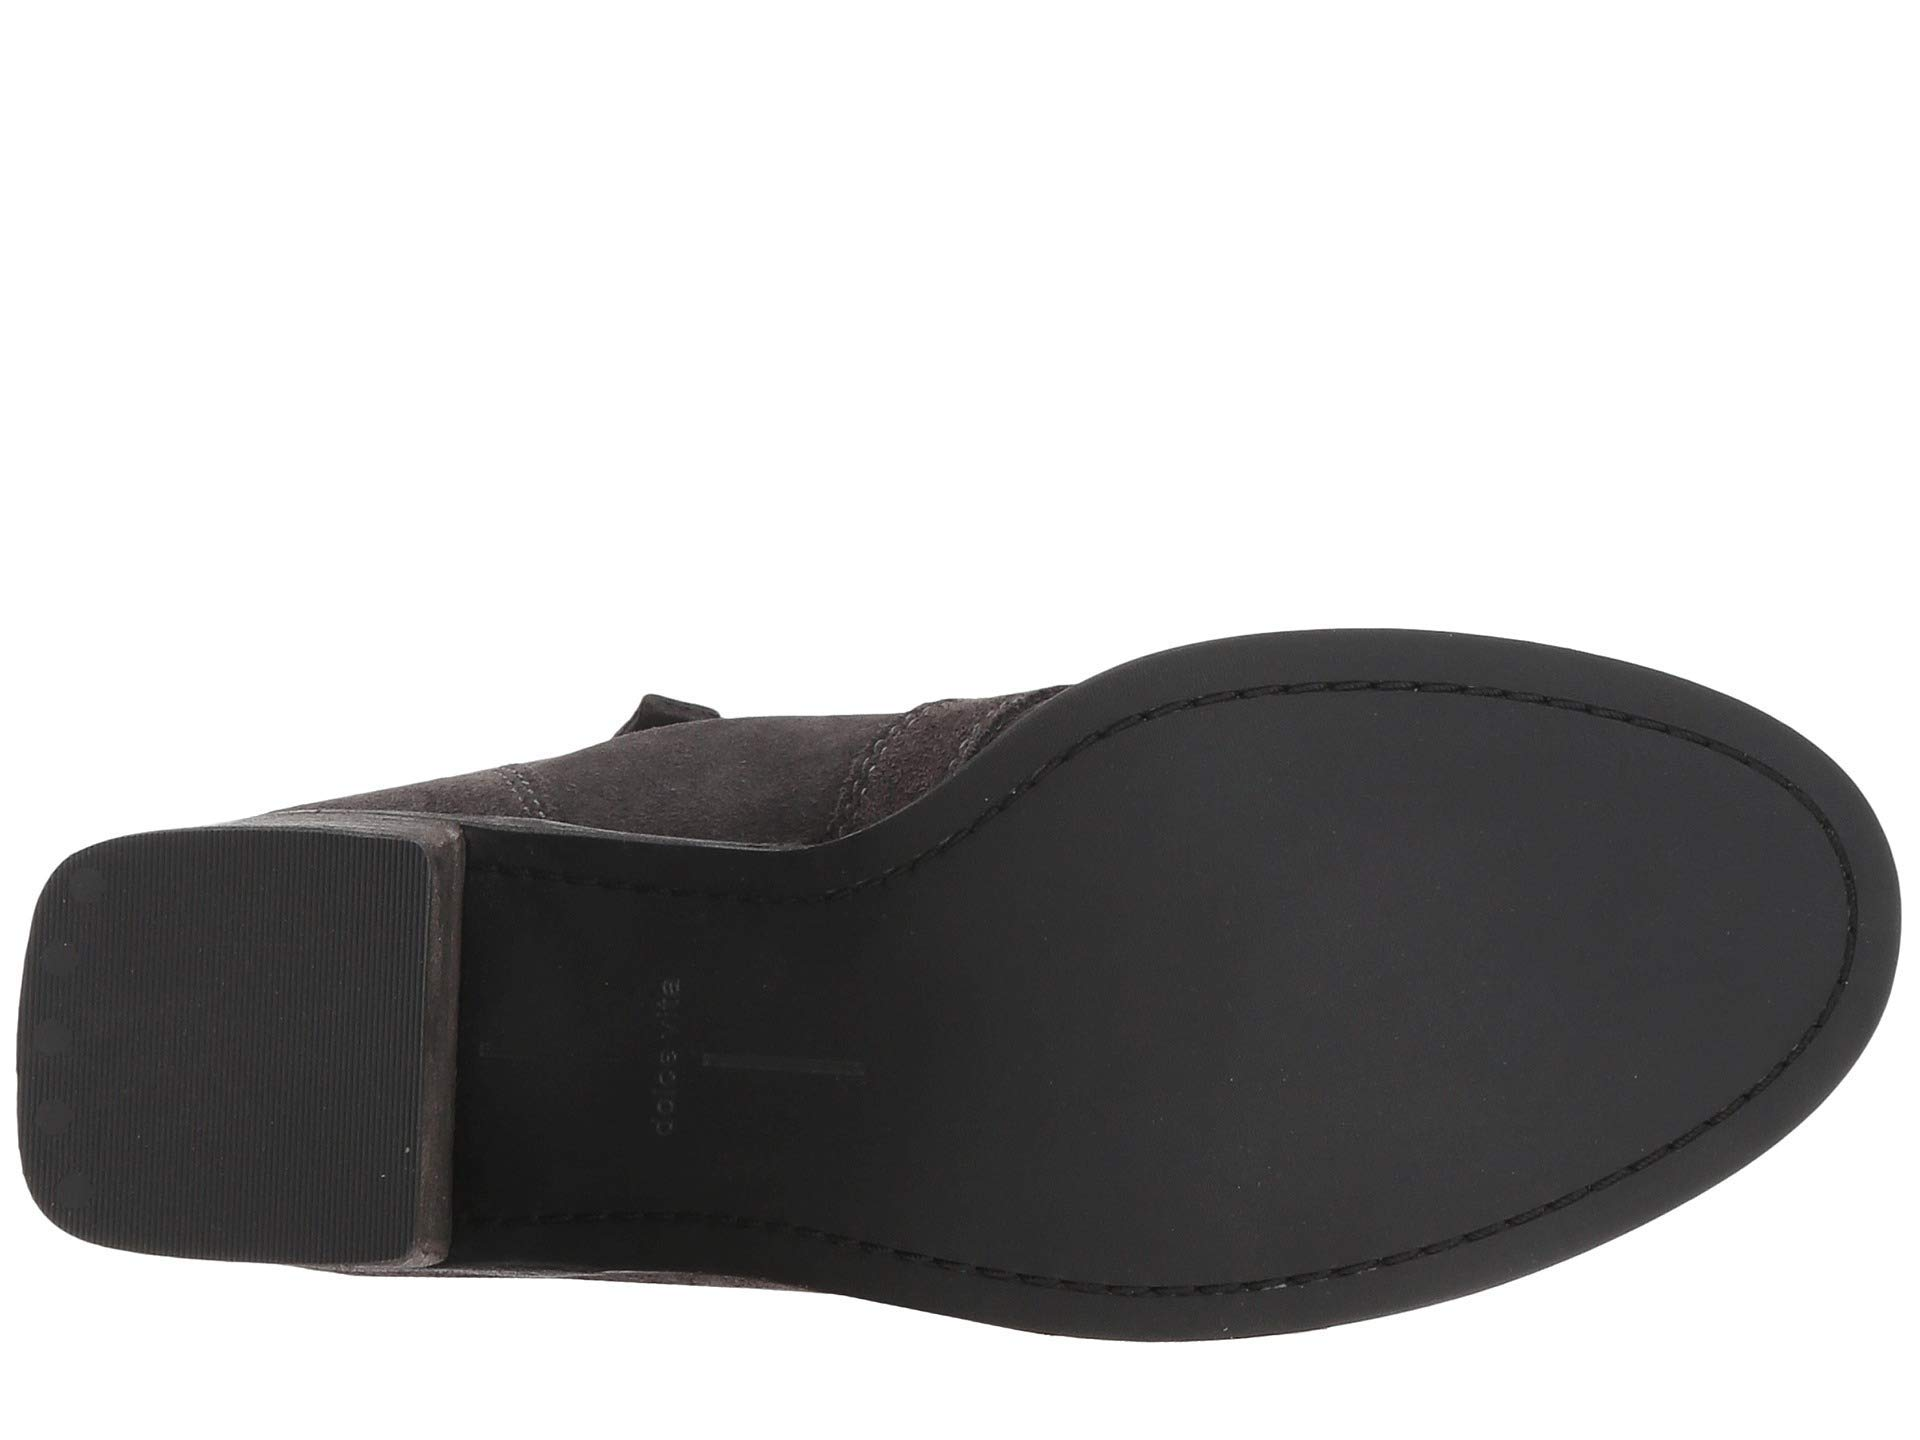line: (1150, 638, 1699, 796), (596, 944, 909, 1172), (104, 923, 363, 1162)
text: (596, 944, 909, 1172)
